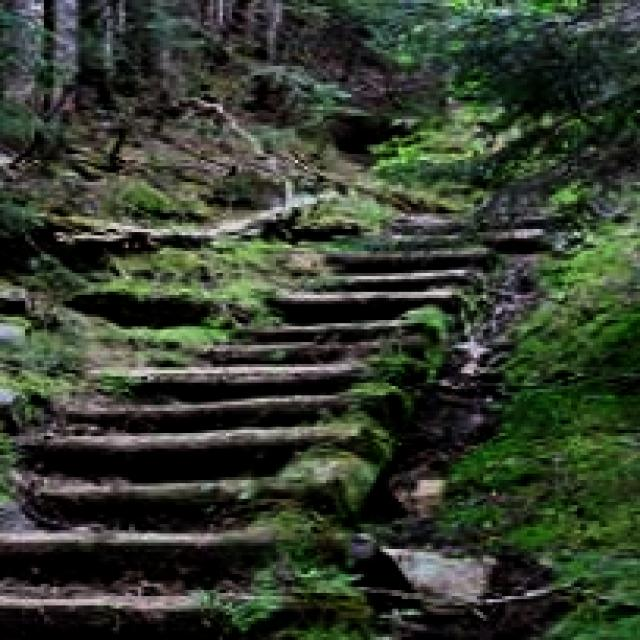upstair: (1, 293, 299, 640)
